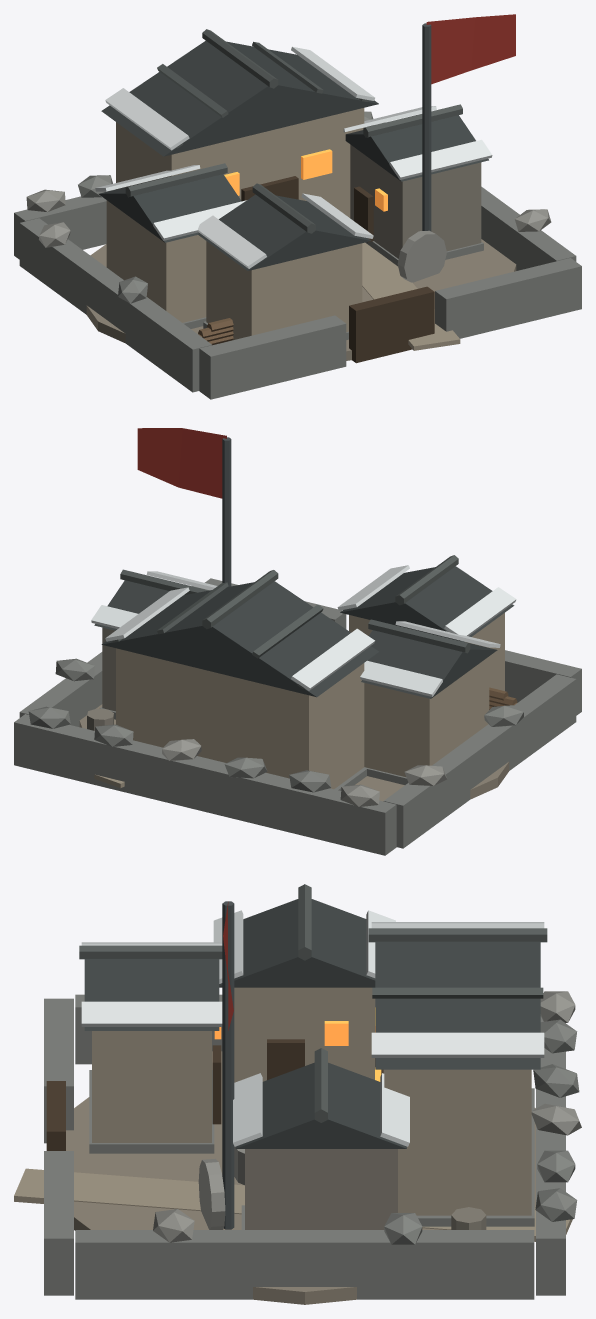
The model's file is village-headquarters.glb.
3 views of the same model, one above another, from view 1: azimuth 30°, elevation 25°; view 2: azimuth 150°, elevation 25°; view 3: azimuth 270°, elevation 25° (orthographic). The views are drawn at different scales.
Parts seen in each view (by area): view 1: TH_VillageHQ_MainHouse_Roof, TH_VillageHQ_MainHouse_Walls, TH_VillageHQ_FrontHouse_Walls, TH_VillageHQ_Wall_1, TH_VillageHQ_RightHouse_Walls, TH_VillageHQ_Wall_3, TH_VillageHQ_Wall_4, TH_VillageHQ_LeftHouse_Walls, TH_VillageHQ_FrontHouse_Roof, TH_VillageHQ_Gate, TH_VillageHQ_Flag_Cloth, TH_VillageHQ_LeftHouse_Roof (+30 smaller); view 2: TH_VillageHQ_MainHouse_Walls, TH_VillageHQ_Wall_0, TH_VillageHQ_MainHouse_Roof, TH_VillageHQ_Wall_1, TH_VillageHQ_LeftHouse_Walls, TH_VillageHQ_FrontHouse_Roof, TH_VillageHQ_Flag_Cloth, TH_VillageHQ_LeftHouse_Roof, TH_VillageHQ_Wall_2, TH_VillageHQ_Wall_3, TH_VillageHQ_MainHouse_SnowEdge_-1, TH_VillageHQ_LeftHouse_SnowEdge_+1 (+25 smaller); view 3: TH_VillageHQ_Wall_2, TH_VillageHQ_MainHouse_Walls, TH_VillageHQ_MainHouse_Roof, TH_VillageHQ_FrontHouse_Walls, TH_VillageHQ_RightHouse_Walls, TH_VillageHQ_LeftHouse_Walls, TH_VillageHQ_LeftHouse_Roof, TH_VillageHQ_CourtyardGround, TH_VillageHQ_RightHouse_Roof, TH_VillageHQ_FrontHouse_Roof, TH_VillageHQ_Lane, TH_VillageHQ_MainHouse_SnowEdge_+1 (+33 smaller).
Part boxes in pixels (x1=…): TH_VillageHQ_MainHouse_Roof: x1=101, y1=40, x2=378, y2=156; TH_VillageHQ_MainHouse_Walls: x1=116, y1=108, x2=364, y2=217; TH_VillageHQ_FrontHouse_Walls: x1=206, y1=241, x2=362, y2=340; TH_VillageHQ_Wall_1: x1=19, y1=218, x2=211, y2=392; TH_VillageHQ_RightHouse_Walls: x1=350, y1=144, x2=481, y2=258; TH_VillageHQ_Wall_3: x1=199, y1=315, x2=346, y2=399; TH_VillageHQ_Wall_4: x1=435, y1=258, x2=581, y2=338; TH_VillageHQ_LeftHouse_Walls: x1=106, y1=200, x2=206, y2=322; TH_VillageHQ_FrontHouse_Roof: x1=198, y1=194, x2=371, y2=270; TH_VillageHQ_Gate: x1=349, y1=286, x2=434, y2=363; TH_VillageHQ_Flag_Cloth: x1=426, y1=14, x2=515, y2=84; TH_VillageHQ_LeftHouse_Roof: x1=99, y1=174, x2=241, y2=242; TH_VillageHQ_MainHouse_Walls: x1=116, y1=648, x2=364, y2=789; TH_VillageHQ_Wall_0: x1=14, y1=714, x2=396, y2=855; TH_VillageHQ_MainHouse_Roof: x1=101, y1=581, x2=378, y2=697; TH_VillageHQ_Wall_1: x1=383, y1=674, x2=576, y2=848; TH_VillageHQ_LeftHouse_Walls: x1=364, y1=656, x2=489, y2=776; TH_VillageHQ_FrontHouse_Roof: x1=340, y1=566, x2=514, y2=641; TH_VillageHQ_Flag_Cloth: x1=137, y1=428, x2=226, y2=498; TH_VillageHQ_LeftHouse_Roof: x1=361, y1=630, x2=497, y2=698; TH_VillageHQ_Wall_2: x1=19, y1=586, x2=208, y2=727; TH_VillageHQ_Wall_3: x1=505, y1=650, x2=581, y2=715; TH_VillageHQ_MainHouse_SnowEdge_-1: x1=291, y1=628, x2=374, y2=690; TH_VillageHQ_LeftHouse_SnowEdge_+1: x1=360, y1=660, x2=442, y2=696; TH_VillageHQ_Wall_2: x1=75, y1=1230, x2=534, y2=1299; TH_VillageHQ_MainHouse_Walls: x1=384, y1=1069, x2=531, y2=1215; TH_VillageHQ_MainHouse_Roof: x1=375, y1=941, x2=540, y2=1069; TH_VillageHQ_FrontHouse_Walls: x1=92, y1=1031, x2=211, y2=1142; TH_VillageHQ_RightHouse_Walls: x1=245, y1=1149, x2=397, y2=1229; TH_VillageHQ_LeftHouse_Walls: x1=234, y1=987, x2=384, y2=1082; TH_VillageHQ_LeftHouse_Roof: x1=219, y1=899, x2=375, y2=987; TH_VillageHQ_CourtyardGround: x1=66, y1=1051, x2=535, y2=1304; TH_VillageHQ_RightHouse_Roof: x1=235, y1=1062, x2=406, y2=1148; TH_VillageHQ_FrontHouse_Roof: x1=84, y1=959, x2=219, y2=1030; TH_VillageHQ_Lane: x1=14, y1=1168, x2=572, y2=1241; TH_VillageHQ_MainHouse_SnowEdge_+1: x1=371, y1=1032, x2=544, y2=1057.
Bounding box in the file's own units: 1.14 × 0.6886 × 1.04.
